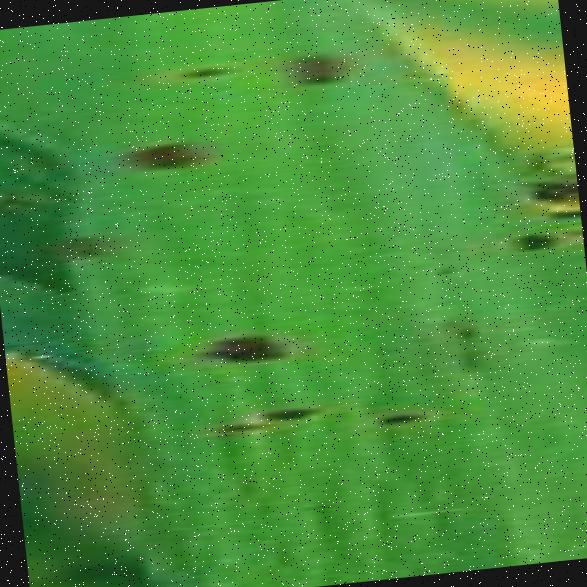Brown_Spot: (176, 311, 304, 382), (98, 123, 218, 188), (269, 32, 362, 108), (146, 46, 258, 94), (484, 212, 569, 269), (56, 218, 114, 272), (361, 398, 447, 432), (252, 392, 325, 432), (525, 412, 572, 462), (446, 337, 496, 380), (206, 412, 270, 444), (417, 250, 463, 282), (446, 318, 483, 342), (106, 278, 130, 300)
